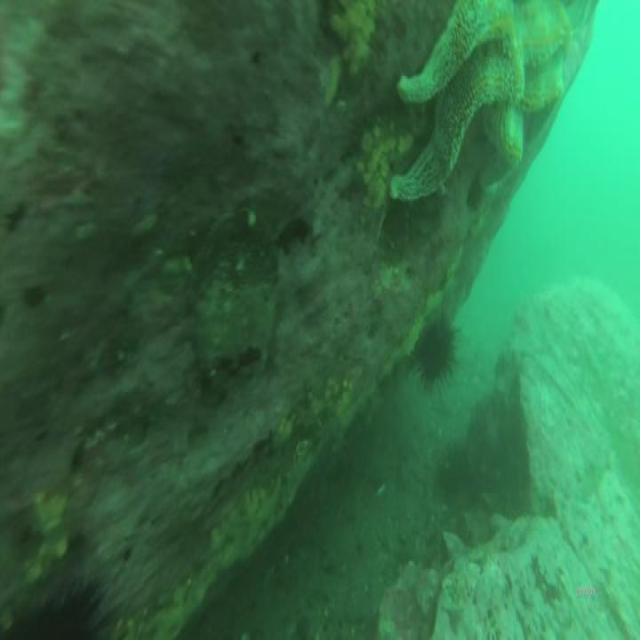echinus: (1, 575, 123, 640), (418, 302, 458, 392), (434, 436, 472, 501)
starfish: (388, 0, 575, 210)
